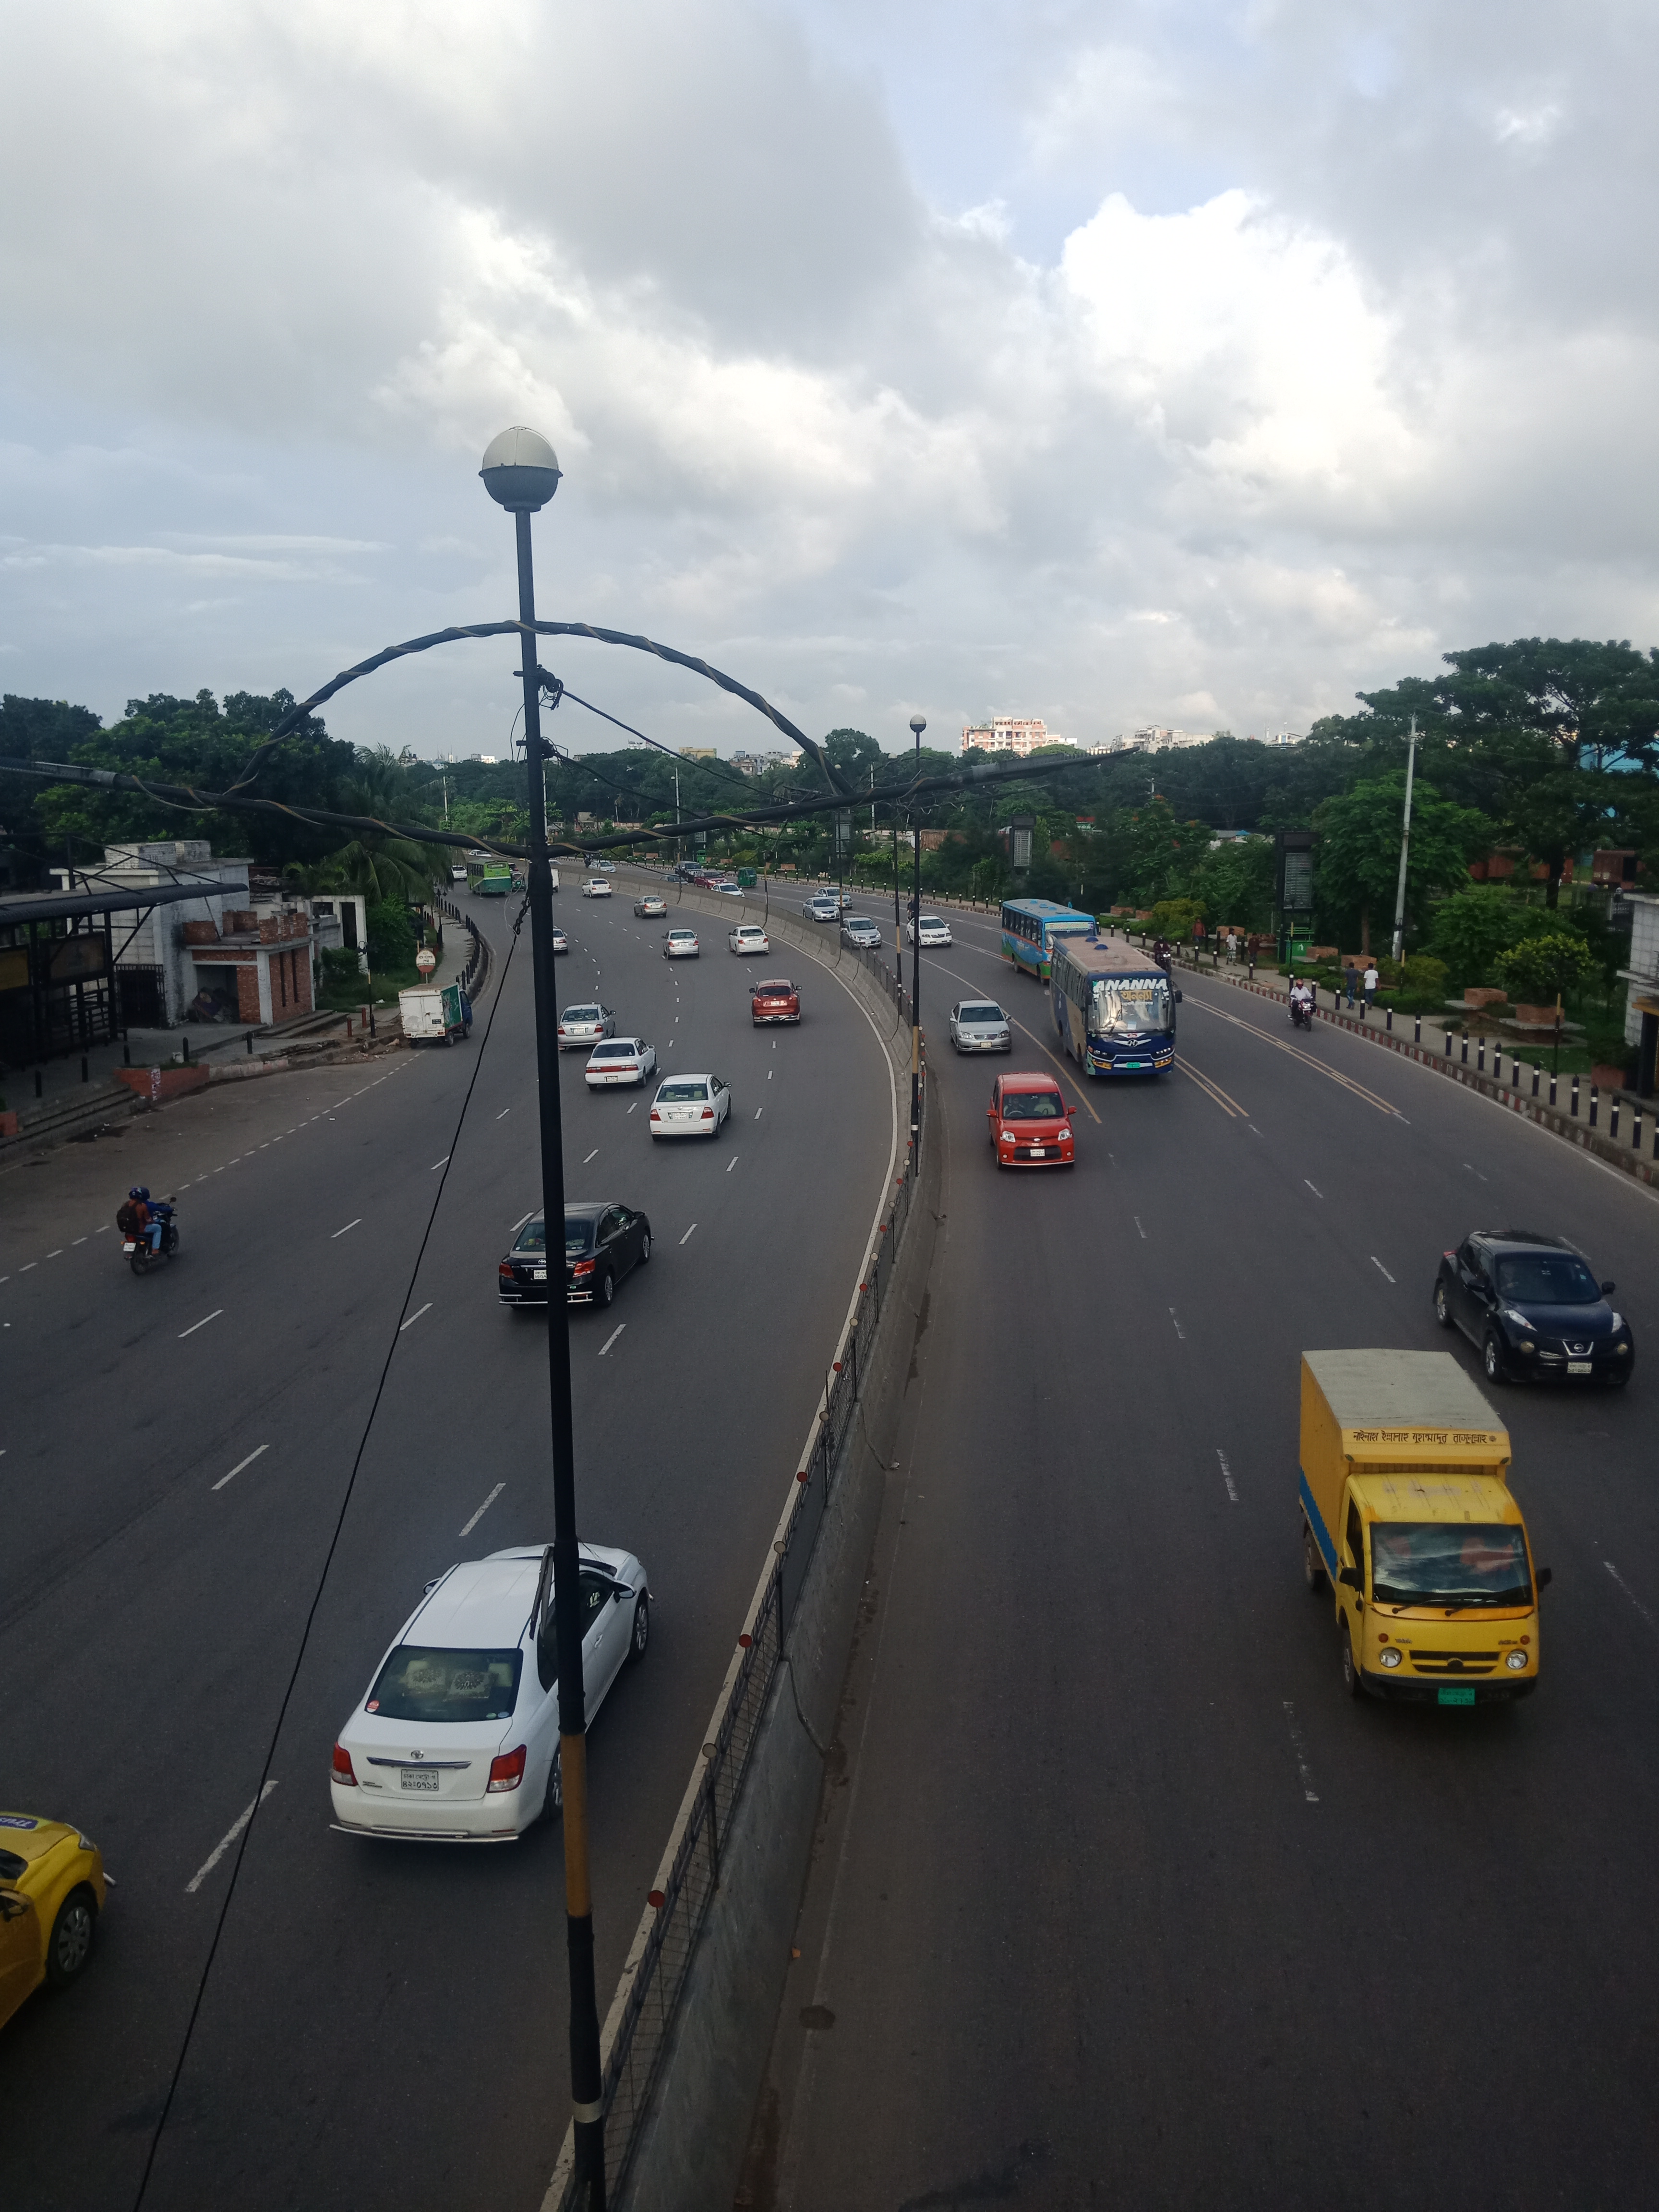bike: (117, 1190, 185, 1271), (1279, 981, 1330, 1029)
bus: (1053, 941, 1188, 1097), (1004, 892, 1100, 991)
car: (329, 1533, 655, 1851), (1432, 1228, 1638, 1388), (0, 1811, 120, 2027), (490, 1200, 659, 1320), (983, 1073, 1077, 1176), (652, 1062, 741, 1146), (582, 1033, 648, 1083), (950, 1001, 1011, 1055), (755, 974, 809, 1026), (559, 1005, 610, 1047), (727, 920, 779, 960), (659, 916, 702, 963), (911, 913, 957, 953), (850, 920, 894, 953)
truck: (1312, 1352, 1563, 1714), (397, 977, 472, 1049)
